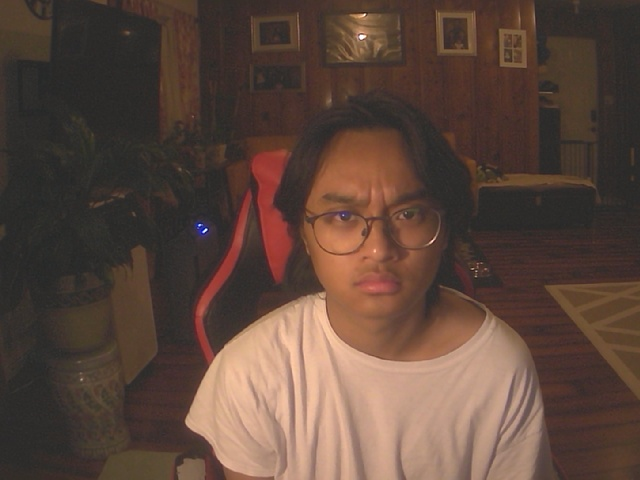anger: (272, 90, 473, 319)
